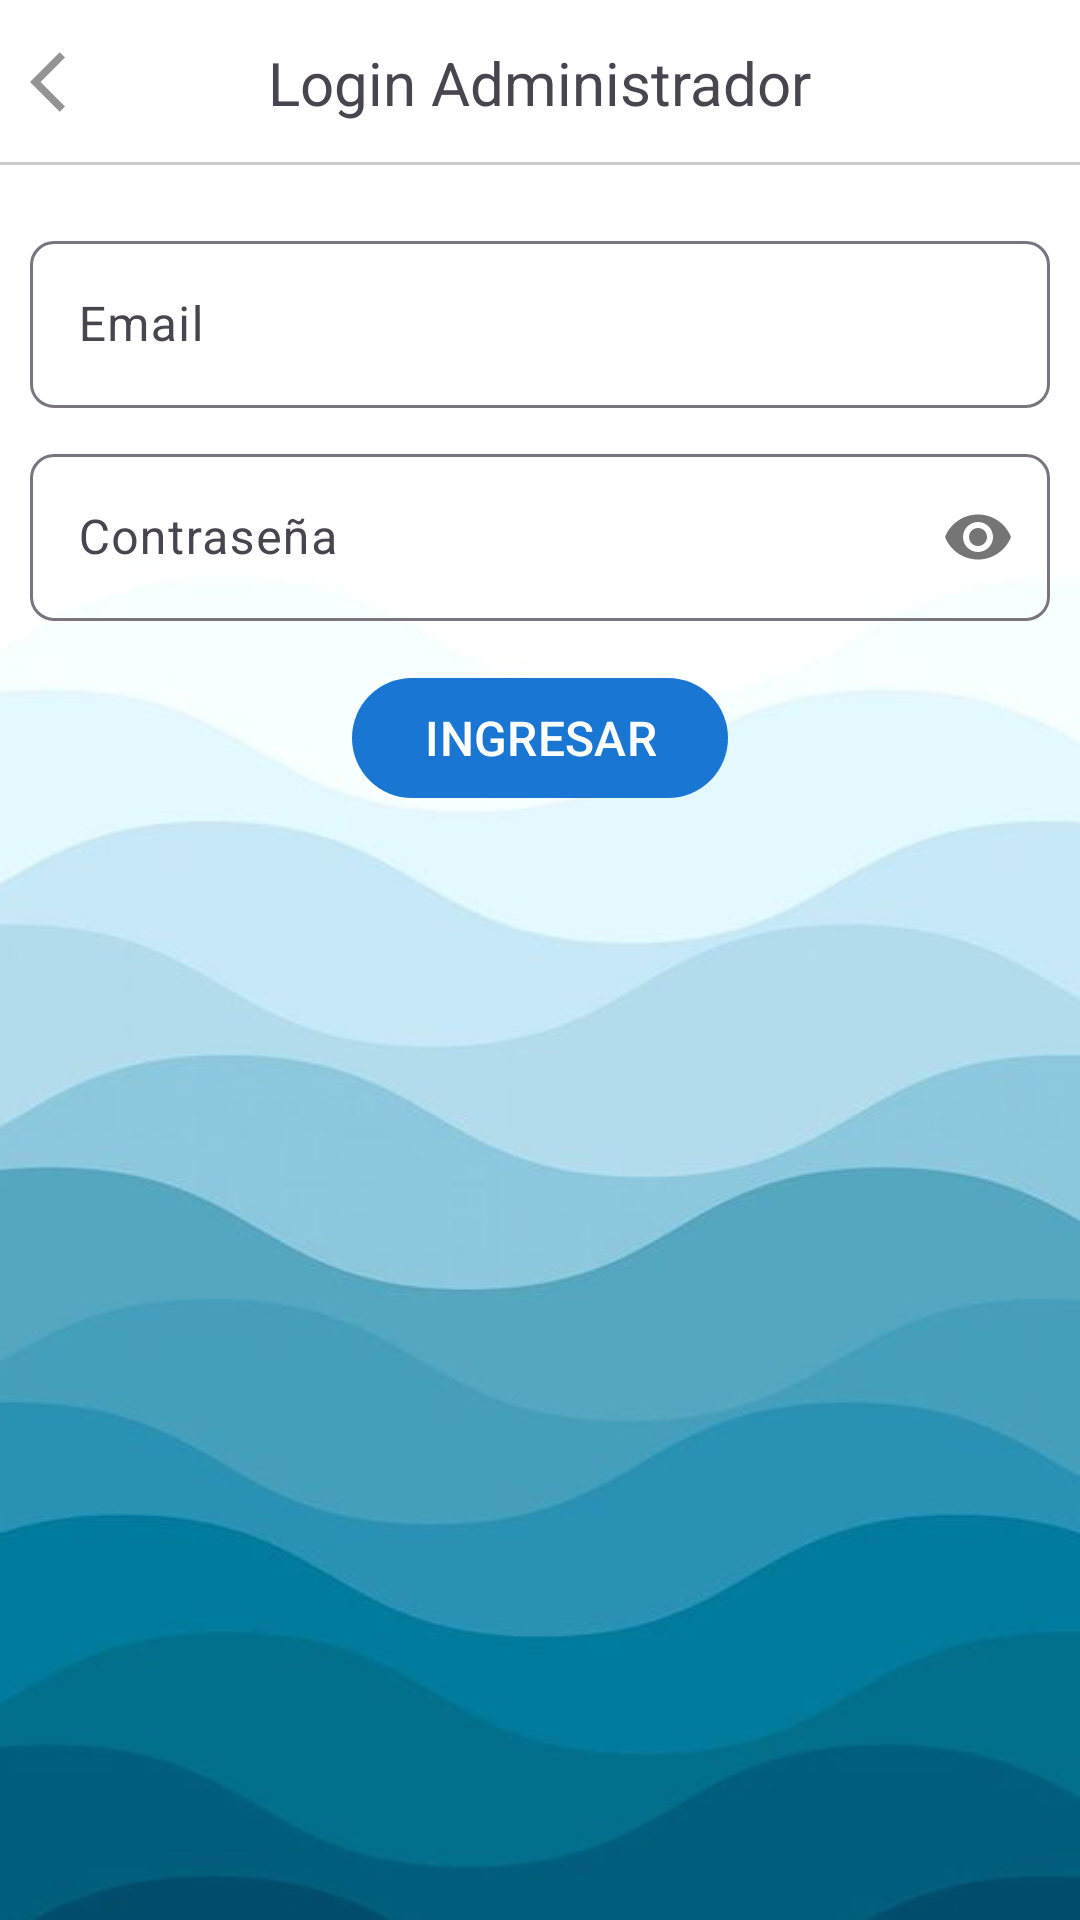

Locate icon controls on the screen. Image size 1080 x 1920, boxes as {"left": x1, "top": y1, "right": x2, "bottom": y2}.
regresar: {"left": 30, "top": 52, "right": 65, "bottom": 112}
